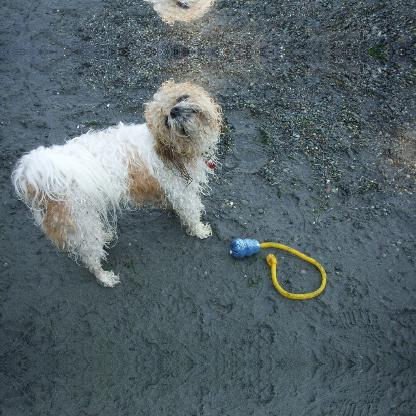Dog: (10, 78, 226, 288)
